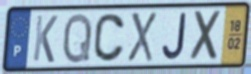C: (92, 12, 126, 64)
J: (160, 11, 189, 62)
K: (31, 13, 60, 65)
Q: (61, 11, 94, 66)
X: (189, 9, 224, 64), (126, 11, 158, 64)
